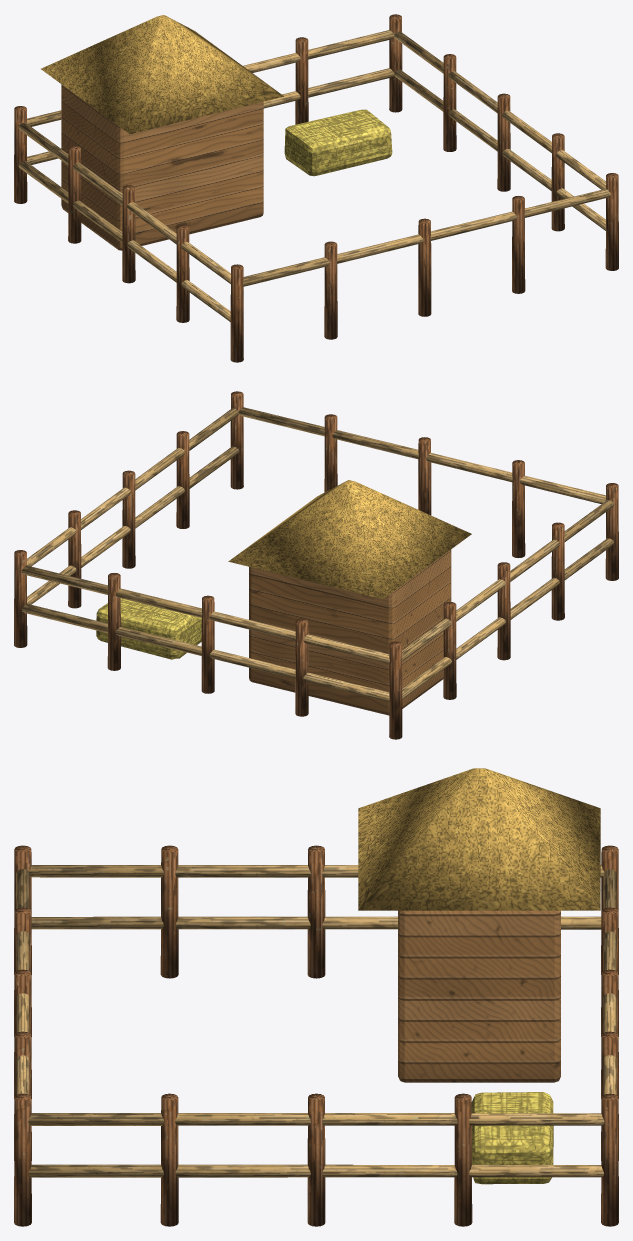
Rendered from sheep_pen.glb.
3 views of the same model, one above another, from view 1: azimuth 30°, elevation 25°; view 2: azimuth 150°, elevation 25°; view 3: azimuth 270°, elevation 25° (orthographic). The views are drawn at different scales.
Visible parts, largest first — view 1: SheepPen; view 2: SheepPen; view 3: SheepPen.
Boxes of the visible parts, bbox=[...] form: SheepPen: bbox=[14, 14, 618, 362]; SheepPen: bbox=[14, 391, 618, 739]; SheepPen: bbox=[14, 768, 618, 1226].
Size of the model in its own units: 3.71 by 1.8 by 3.71.
1 material, 1 textured.
